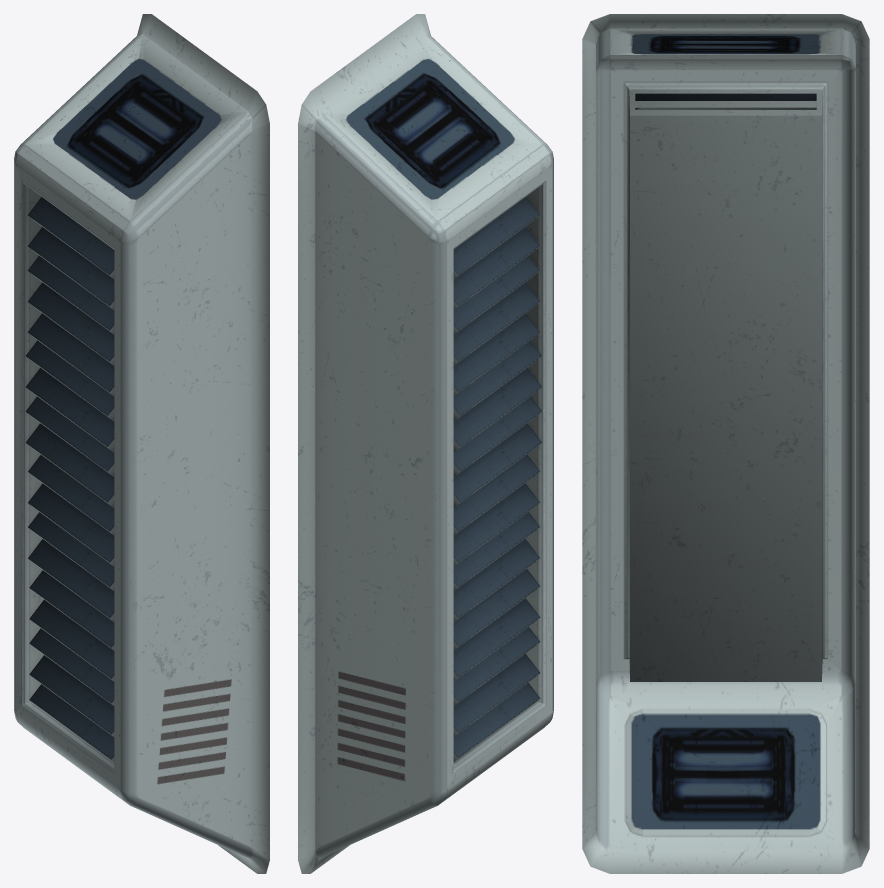
Rendered from MetalBox10345.fbx.
3 renders of one model, left to right at view 1: azimuth 30°, elevation 25°; view 2: azimuth 150°, elevation 25°; view 3: azimuth 270°, elevation 25°, orthographic. The views are drawn at different scales.
Parts seen in each view (by area): view 1: MetalBox10345; view 2: MetalBox10345; view 3: MetalBox10345.
Boxes of the visible parts, x1=… form: MetalBox10345: x1=14, y1=14, x2=269, y2=873; MetalBox10345: x1=298, y1=14, x2=553, y2=873; MetalBox10345: x1=582, y1=14, x2=869, y2=873.
Bounding box in the file's own units: 62.18 × 337 × 102.
